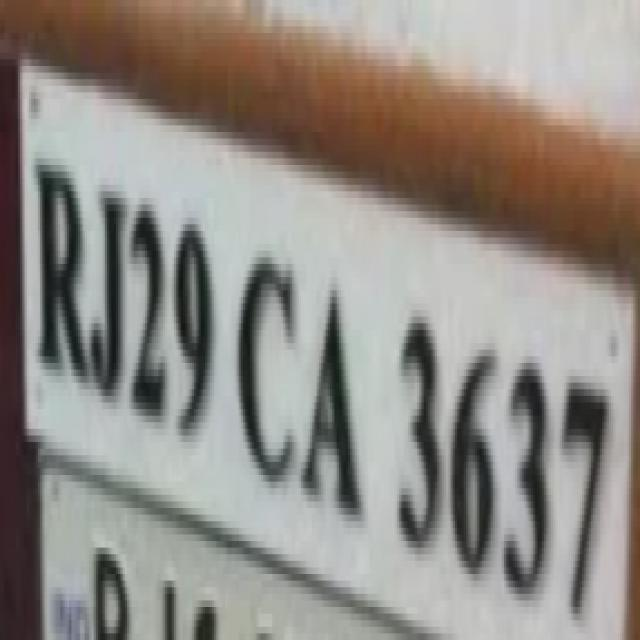2: (128, 194, 169, 431)
3: (390, 306, 444, 554), (499, 343, 549, 609)
6: (446, 317, 499, 586)
7: (556, 364, 616, 626)
9: (170, 213, 217, 454)
A: (302, 270, 366, 524)
C: (234, 228, 300, 498)
J: (90, 170, 126, 411)
R: (26, 140, 86, 382)
